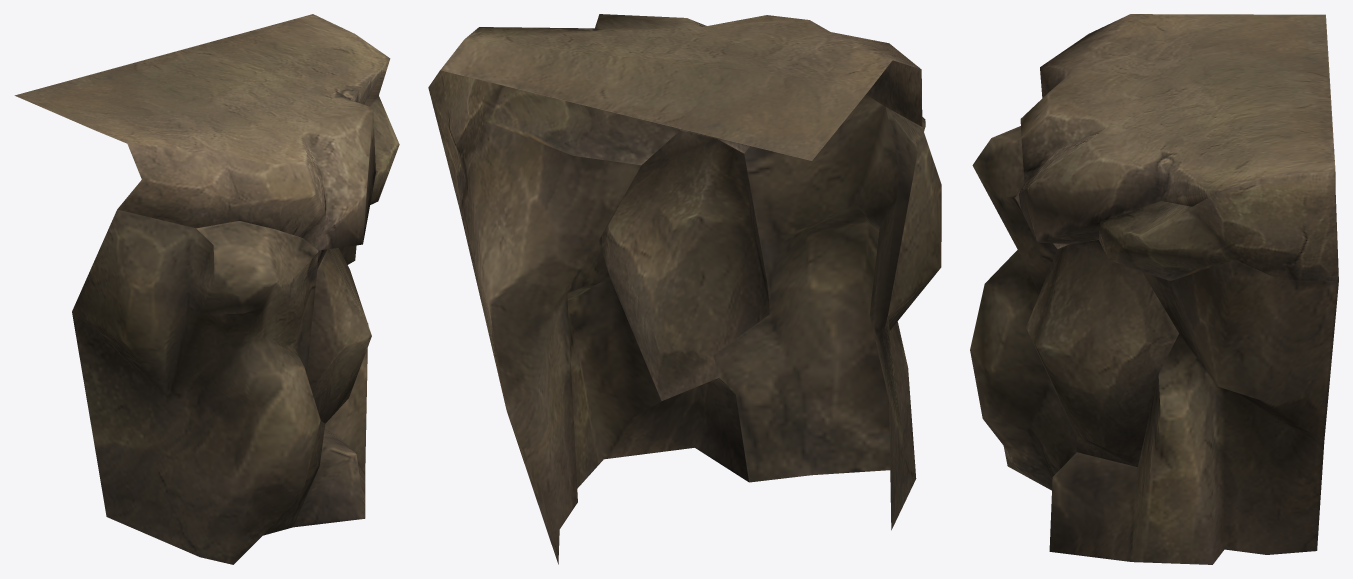
Rendered from Ruins04_Build_LV001.FBX.
The picture shows the model from 3 angles, left to right: view 1: azimuth 30°, elevation 25°; view 2: azimuth 150°, elevation 25°; view 3: azimuth 270°, elevation 25°; orthographic projection. The views are drawn at different scales.
Visible parts, largest first — view 1: Ruins04_Build_LV001; view 2: Ruins04_Build_LV001; view 3: Ruins04_Build_LV001.
Boxes of the visible parts, <box> form: Ruins04_Build_LV001: <box>14,14,399,564</box>; Ruins04_Build_LV001: <box>428,14,941,564</box>; Ruins04_Build_LV001: <box>970,14,1338,564</box>.
Size of the model in its own units: 1384 by 1616 by 1239.
Materials: 1 (1 with a texture image).
